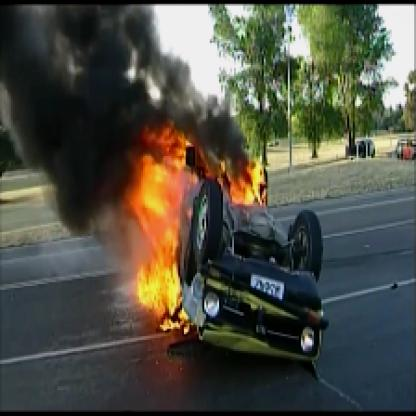Fire: (91, 100, 267, 336)
